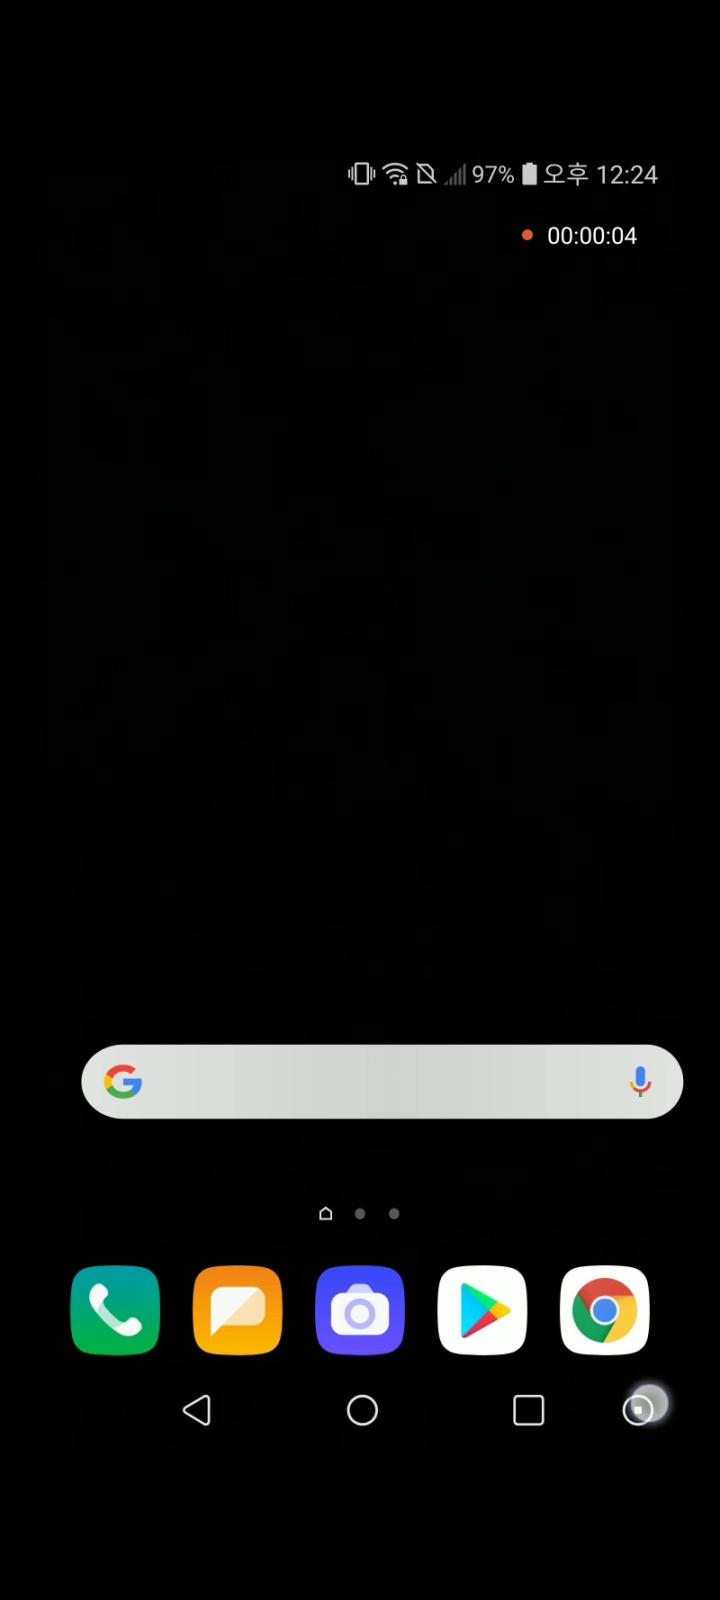Cursor: (624, 1378, 669, 1423)
